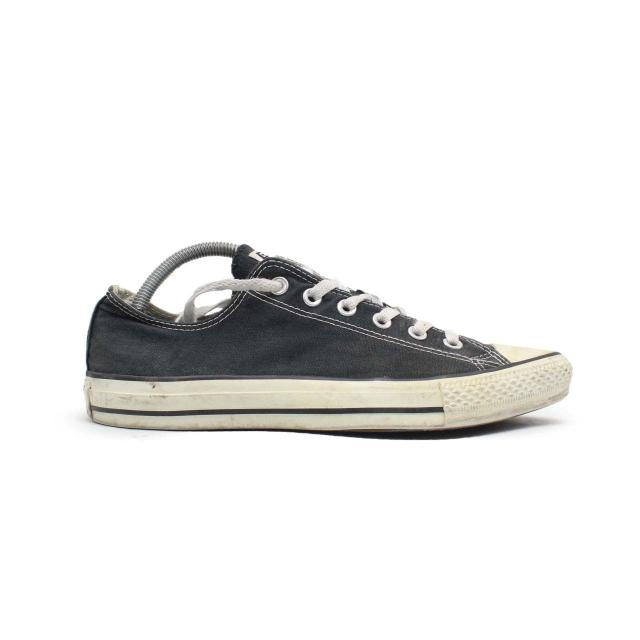heel: (84, 285, 174, 379)
midsole: (82, 353, 572, 431)
uppersole: (164, 243, 546, 379)
